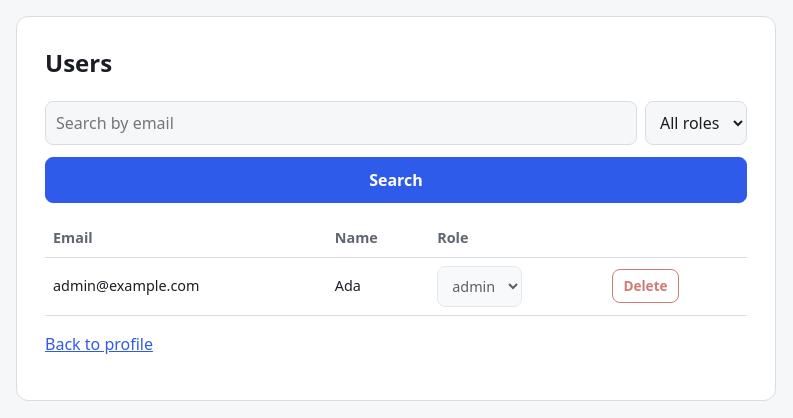
Test case: admin page › a slow response for an OLD search never overwrites the newer results
In the field labelled "Search by email": (341, 123) top-left (45, 101), bottom-right (637, 145), type "a"
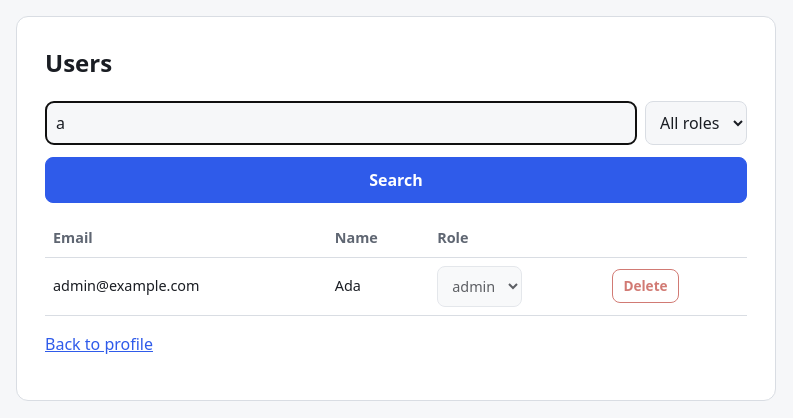
Click the button "Search": (396, 180) top-left (45, 157), bottom-right (747, 203)
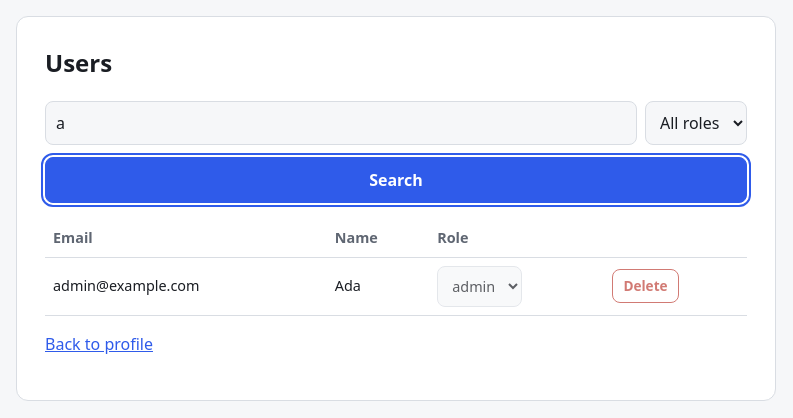
In the field named "Search by email": (341, 123) top-left (45, 101), bottom-right (637, 145), type "l"
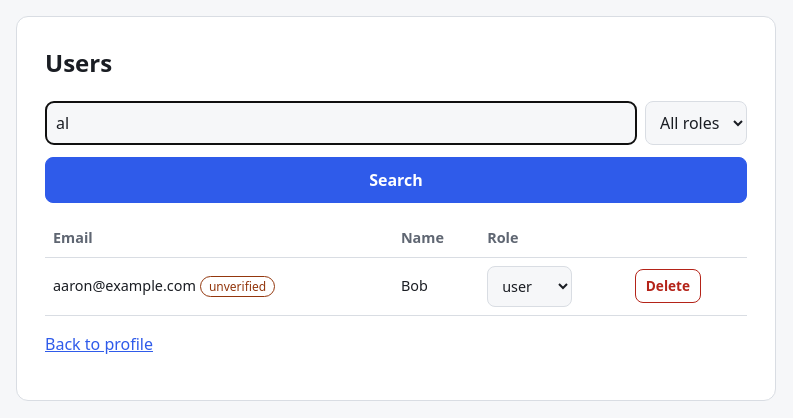
Click the button "Search": (396, 180) top-left (45, 157), bottom-right (747, 203)
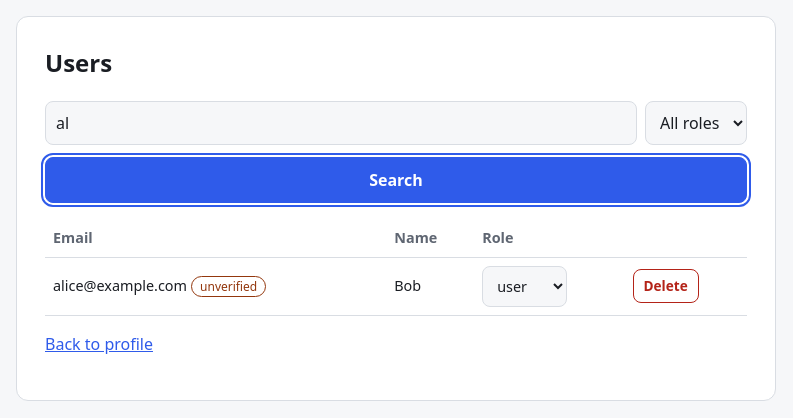
Now the text "alice@example.com" is shown, box top-left (53, 276), bottom-right (187, 295)
Now the text "aaron@example.com" is gone
